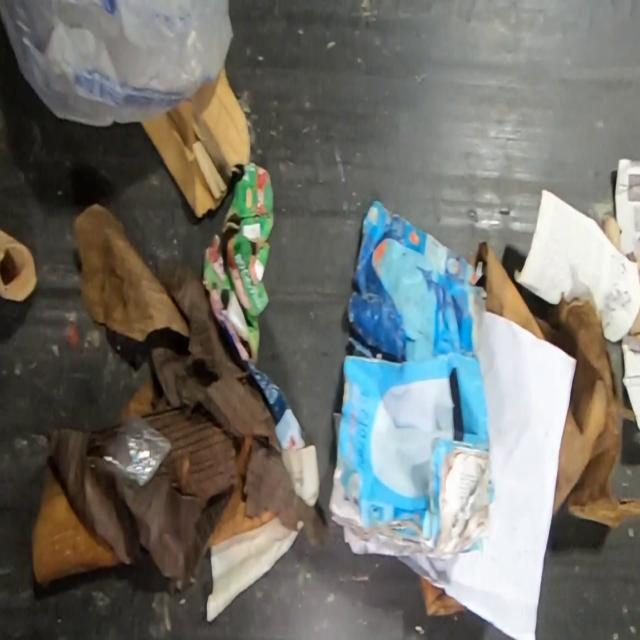cardboard: (469, 239, 640, 531), (346, 195, 488, 362), (140, 61, 250, 219), (208, 288, 308, 451), (201, 160, 274, 365), (0, 227, 38, 302), (418, 574, 470, 617), (620, 334, 640, 432)
soft_plastic: (98, 411, 172, 488)
